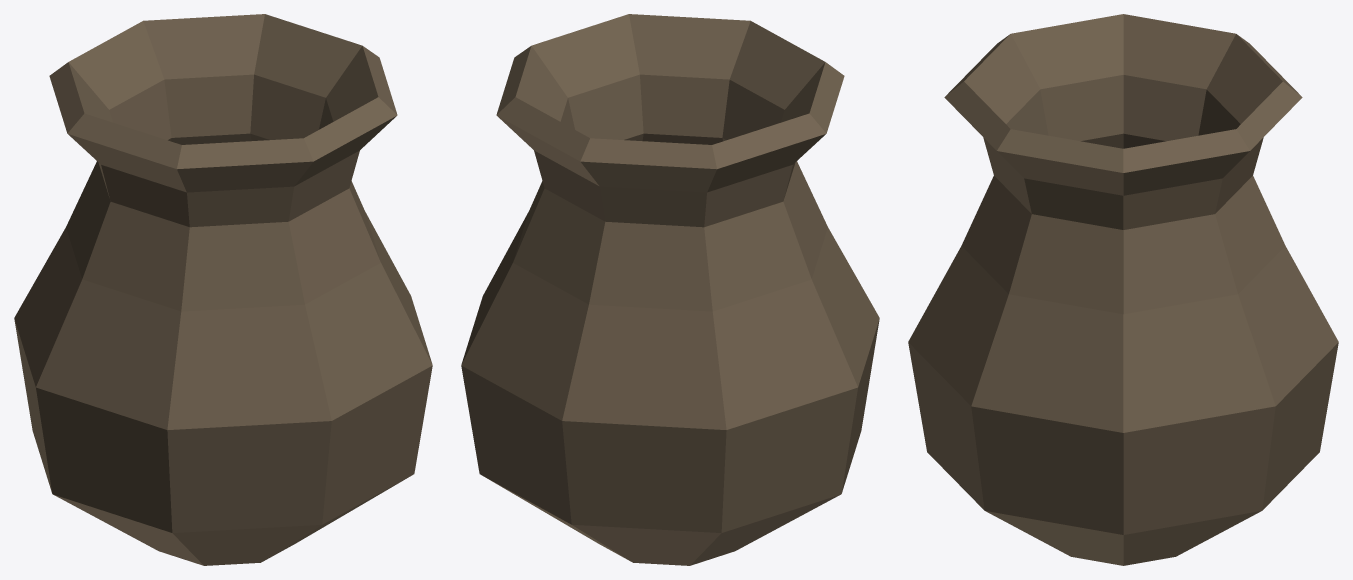
File: Vase.glb
The picture shows the model from 3 angles, left to right: view 1: azimuth 30°, elevation 25°; view 2: azimuth 150°, elevation 25°; view 3: azimuth 270°, elevation 25°; orthographic projection.
Visible parts, largest first — view 1: Vase; view 2: Vase; view 3: Vase.
Boxes of the visible parts, left/top/right/bottom form: Vase: left=14, top=14, right=432, bottom=565; Vase: left=461, top=14, right=879, bottom=565; Vase: left=908, top=14, right=1338, bottom=565.
Bounding box in the file's own units: 0.1306 × 0.1516 × 0.1306.
